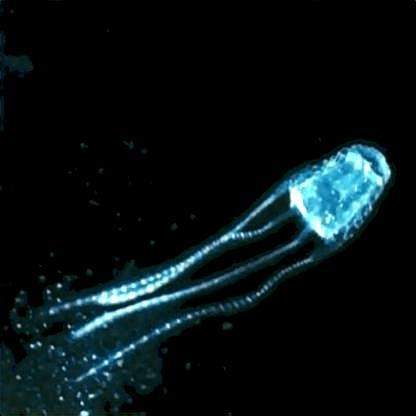Comb: (58, 142, 390, 378)
